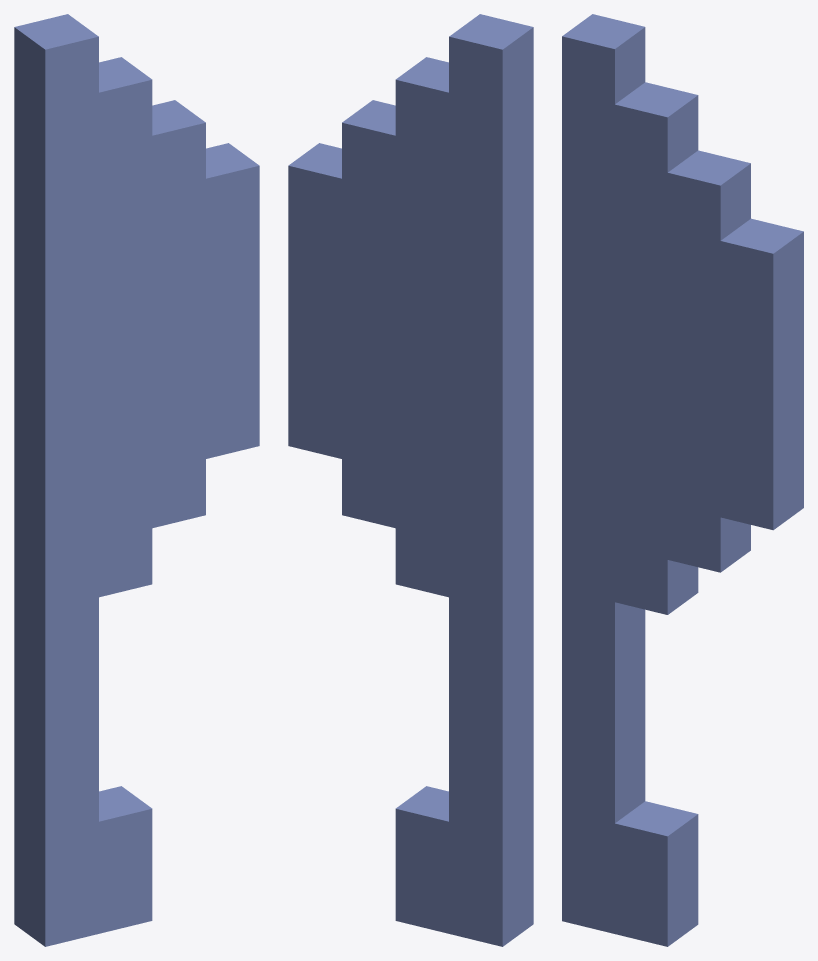
Rendered from Knife.dae.
3 views of the same model, side by side, from view 1: azimuth 30°, elevation 25°; view 2: azimuth 150°, elevation 25°; view 3: azimuth 330°, elevation 25° (orthographic).
Parts seen in each view (by area): view 1: Knife; view 2: Knife; view 3: Knife.
Part boxes in pixels (x1,y1,x2,y2): Knife: (14, 14, 259, 946); Knife: (288, 14, 533, 946); Knife: (562, 14, 803, 946).
Bounding box in the file's own units: 4 × 16 × 1.
1 material, 1 textured.
